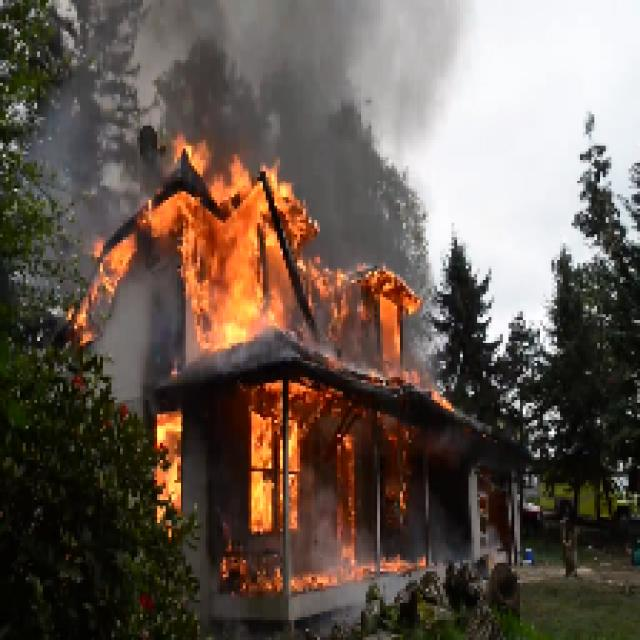fire: (147, 206, 280, 367), (248, 414, 306, 536)
